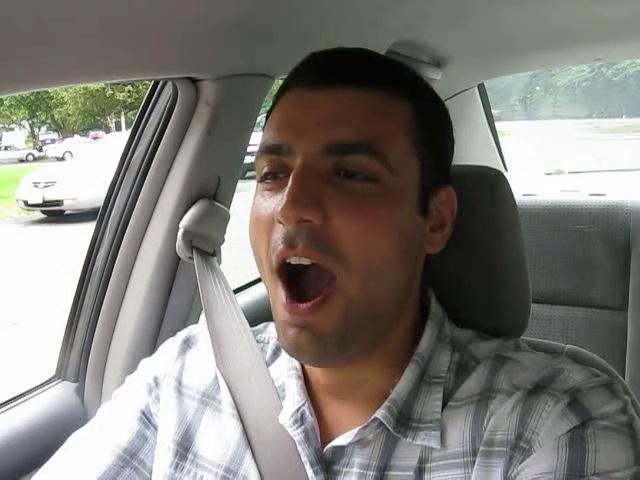close_eyeL: (239, 156, 302, 199)
close_eyeR: (309, 152, 400, 201)
yawn: (255, 247, 357, 325)
